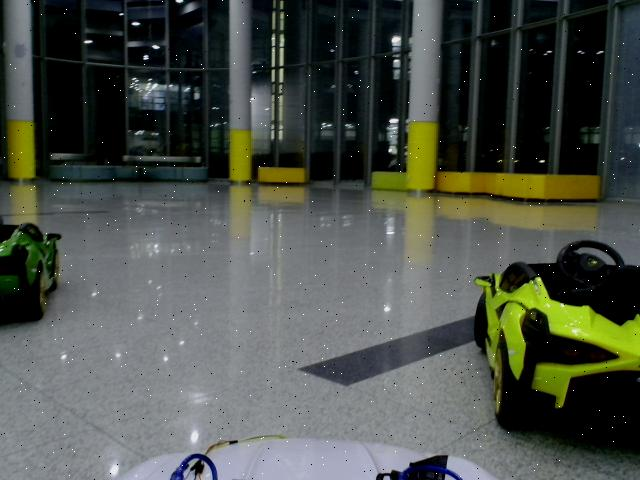car: (474, 240, 640, 430), (1, 217, 63, 322)
